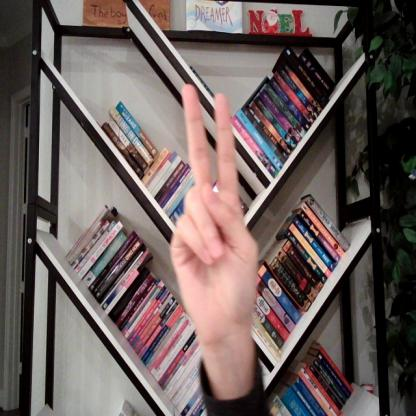two: (164, 84, 267, 339)
